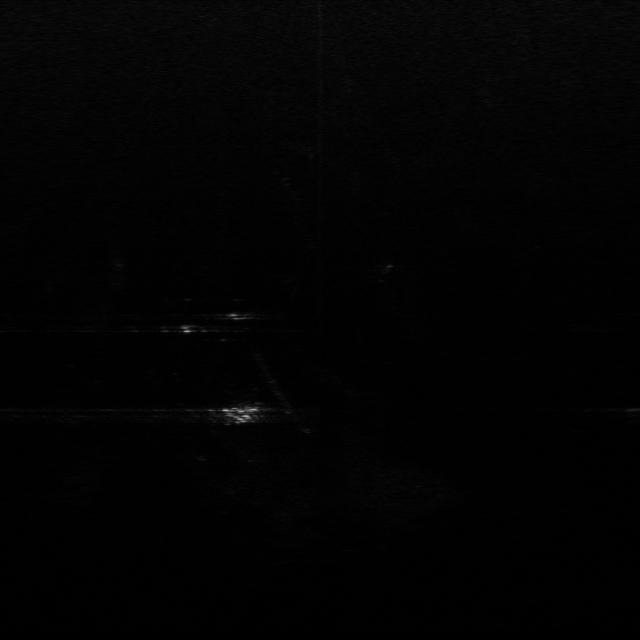rov: (221, 401, 263, 427)
